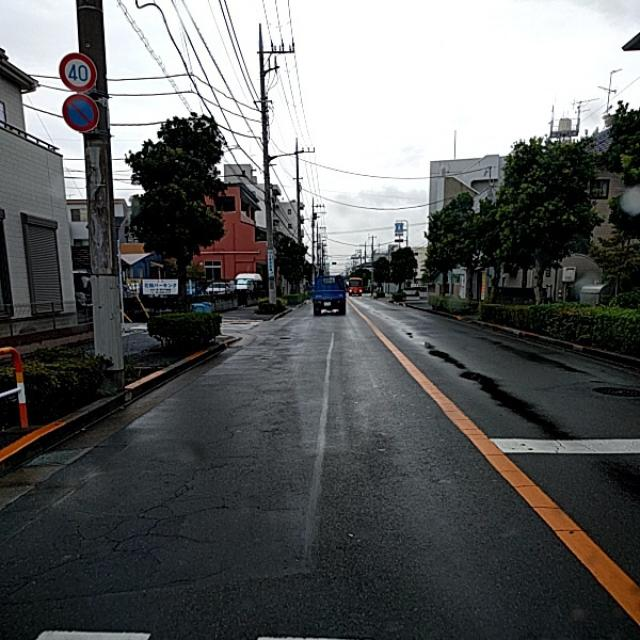pothole: (105, 450, 211, 569)
